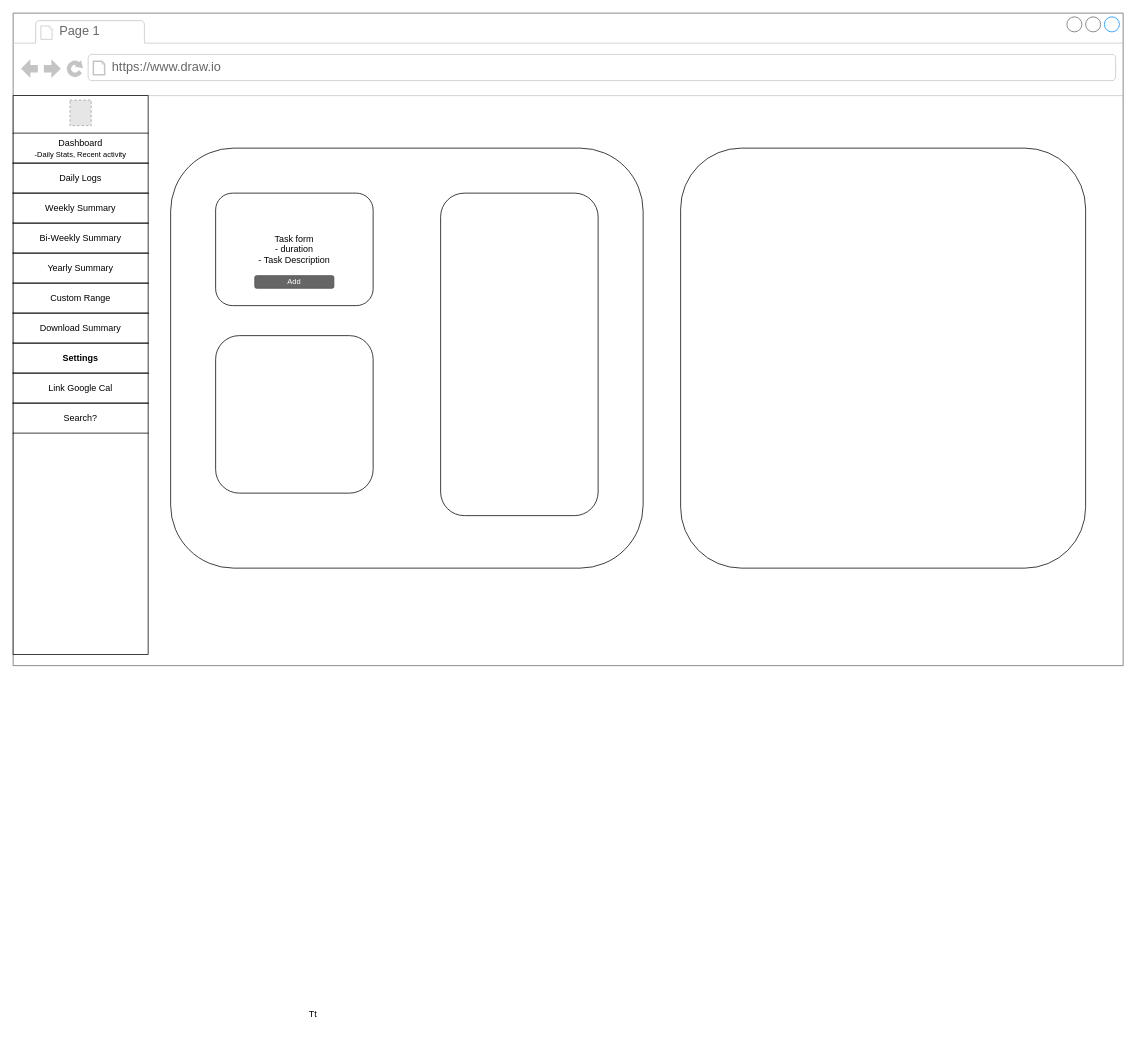
Some shapes in this 1136 by 1039 pixel diagram are drawn without their labels. Grey dashed boxes stand in for pictures. Here are the shapes that lost their labels. From the top down, the centre of each, then its label:
At point (519, 354): "Todays Tasks".
At point (883, 357): "Visuals".
